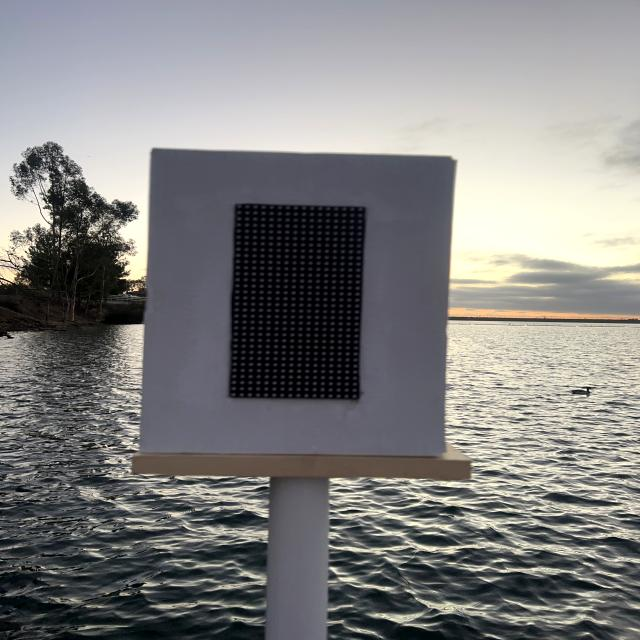led: (216, 184, 374, 423)
